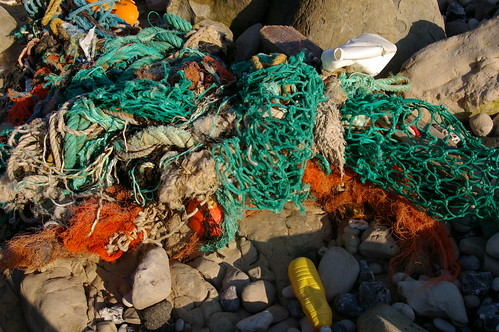rocks: (124, 192, 499, 332)
trash: (1, 1, 499, 332)
